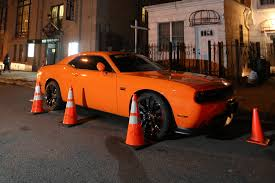car: (35, 50, 240, 140)
cone: (118, 94, 152, 150), (59, 88, 84, 127), (246, 107, 270, 146), (28, 82, 48, 115)
